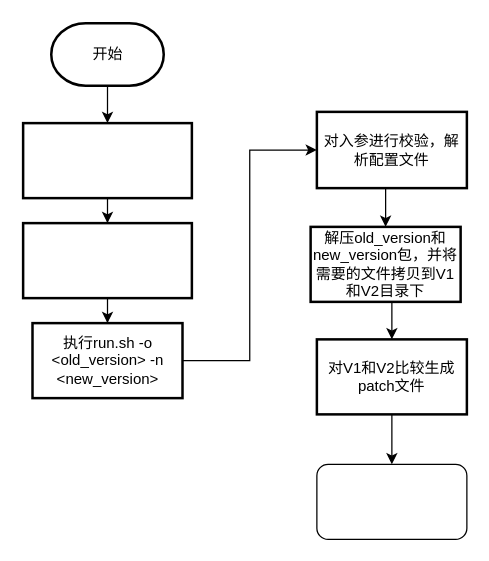
This 489x561 diagram has some shape labels left out. The centre of each missing label's shape, as x and y in pixels:
"结束" belongs at [391,501].
"配置file_forced_coverage.cfg 文件" belongs at [106,260].
"配置upgrade_map.cfg文件" belongs at [106,160].
